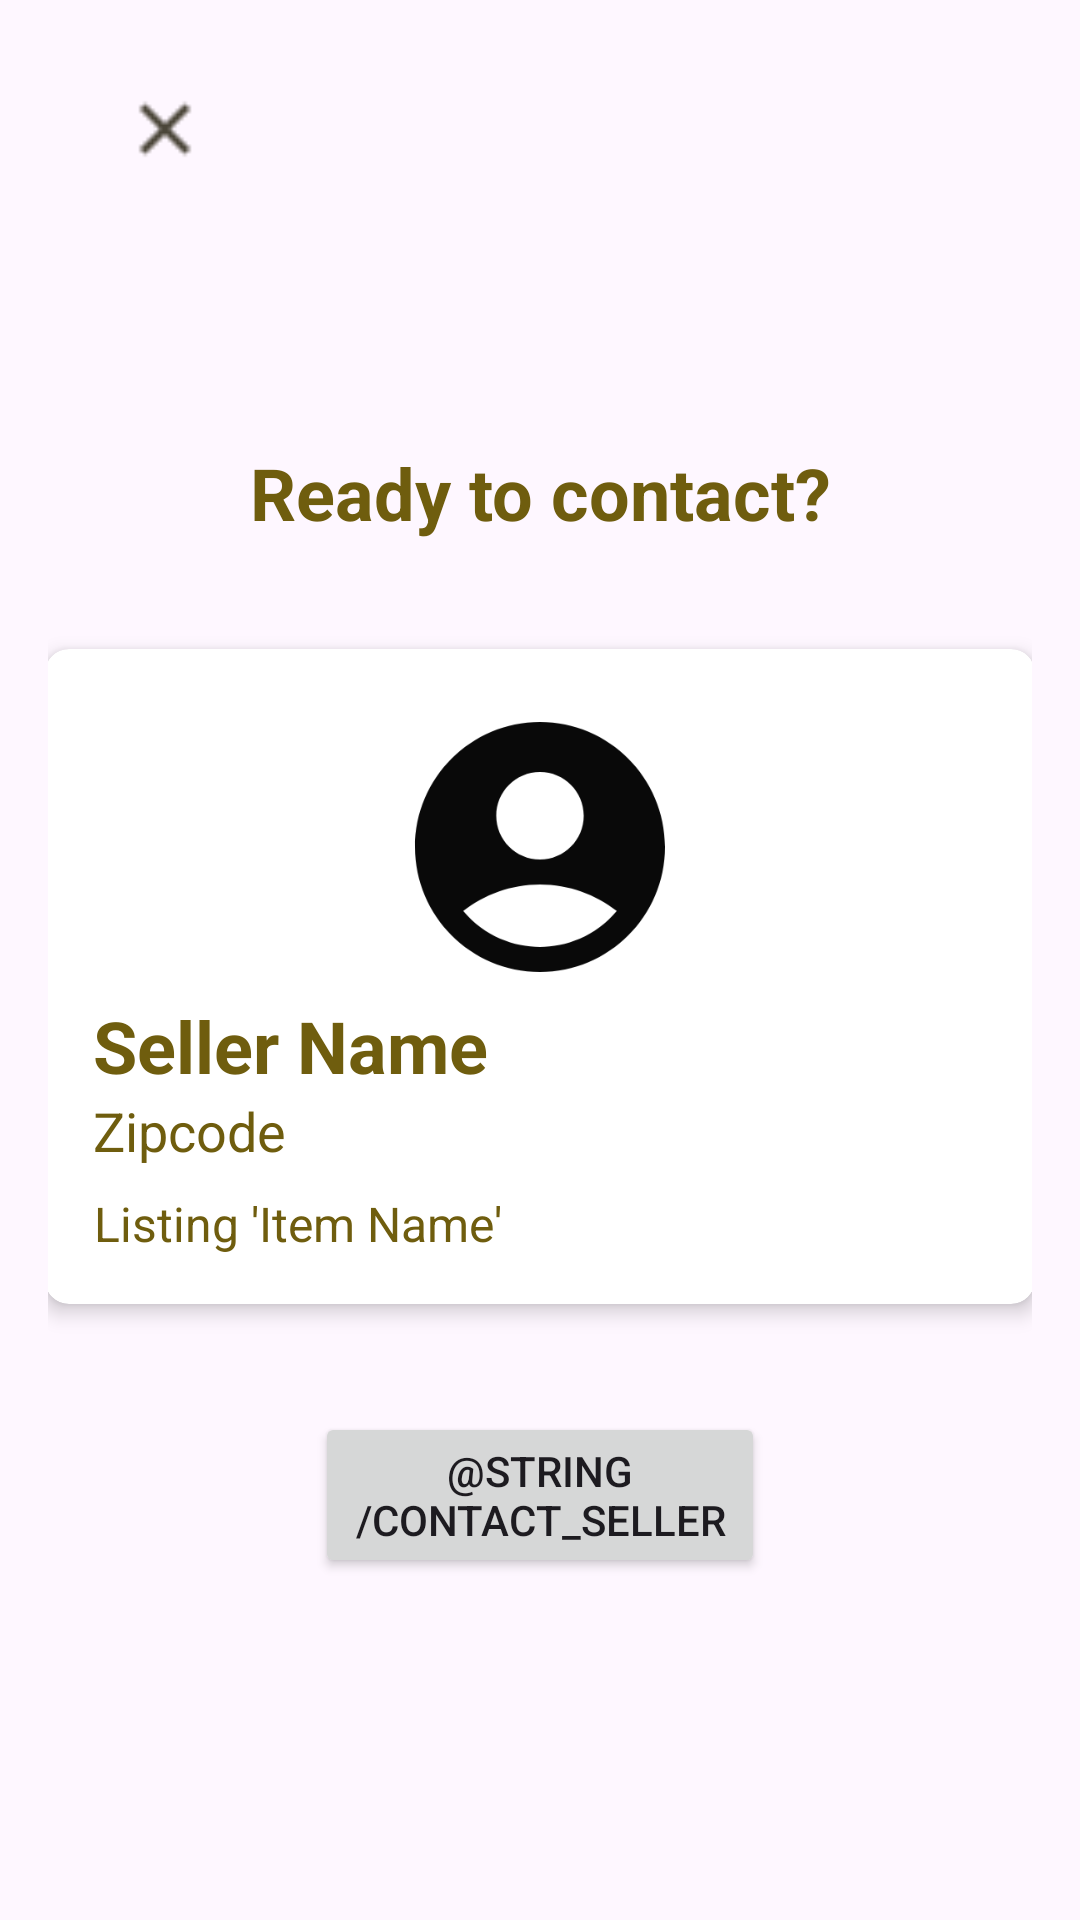

Icons on this 1080x1920 Android screen, each with its box as (x1, y1, x2, y2):
account circle: (415, 722, 665, 972)
cross: (139, 102, 191, 156)
